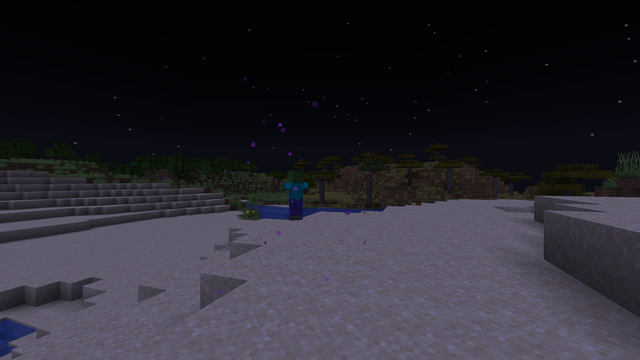zombies: (285, 171, 304, 220)
